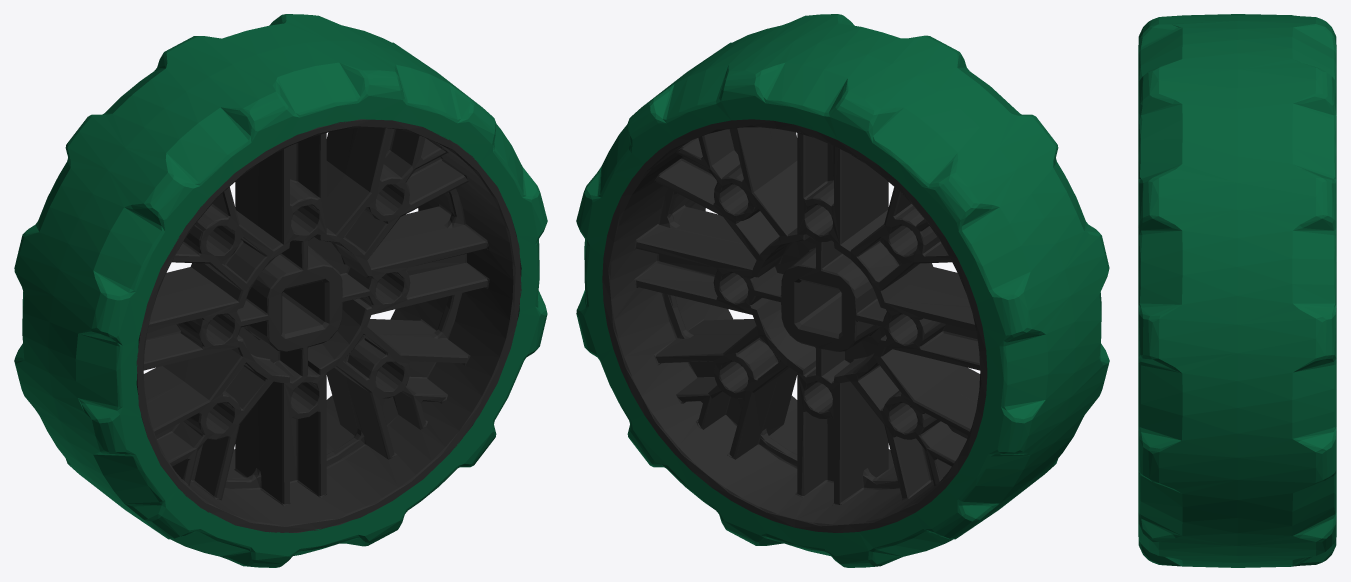
File: 2_75_Anti-Static_Wheel.glb
3 views of the same model, side by side, from view 1: azimuth 30°, elevation 25°; view 2: azimuth 150°, elevation 25°; view 3: azimuth 270°, elevation 25° (orthographic). The views are drawn at different scales.
Parts seen in each view (by area): view 1: 2.75 Anti-Static Wheel; view 2: 2.75 Anti-Static Wheel; view 3: 2.75 Anti-Static Wheel.
Boxes of the visible parts, box(x1,y1,x2,y2) form: 2.75 Anti-Static Wheel: box(14, 14, 547, 567); 2.75 Anti-Static Wheel: box(576, 14, 1109, 567); 2.75 Anti-Static Wheel: box(1138, 14, 1336, 567).
Bounding box in the file's own units: 2.75 × 2.75 × 0.9843.
